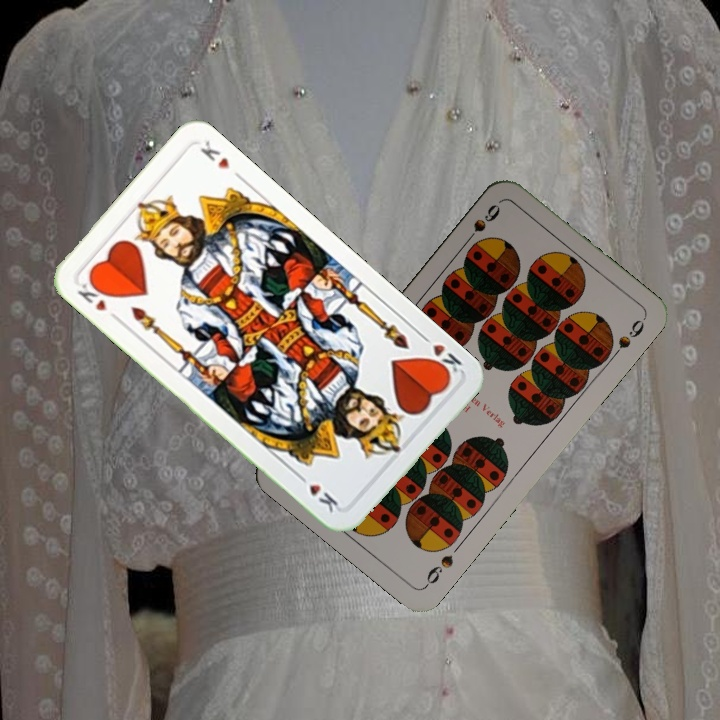HK: (416, 329, 465, 382), (73, 275, 122, 323)
S9: (460, 200, 503, 248), (420, 551, 456, 590)
